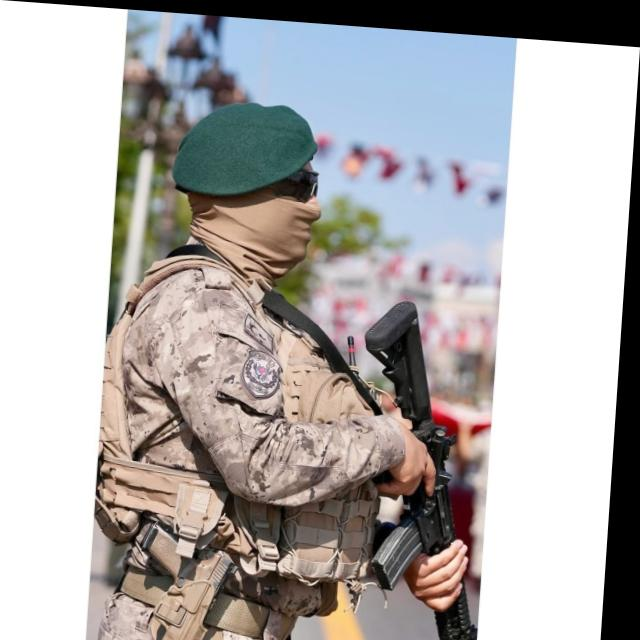poh_personel: (94, 90, 497, 640)
